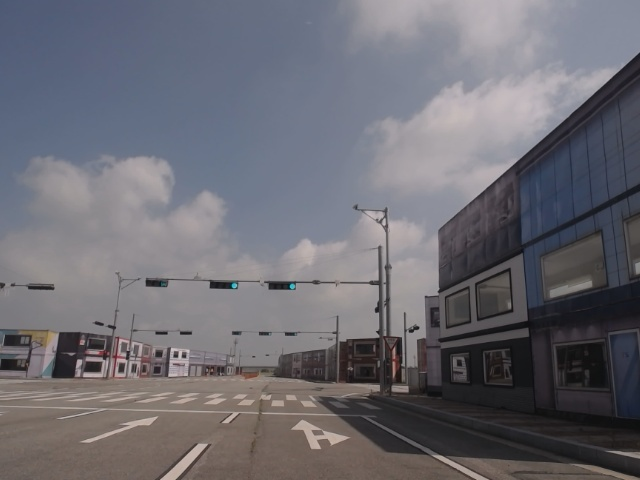straight_green_4: (211, 281, 238, 289), (267, 284, 296, 291)
